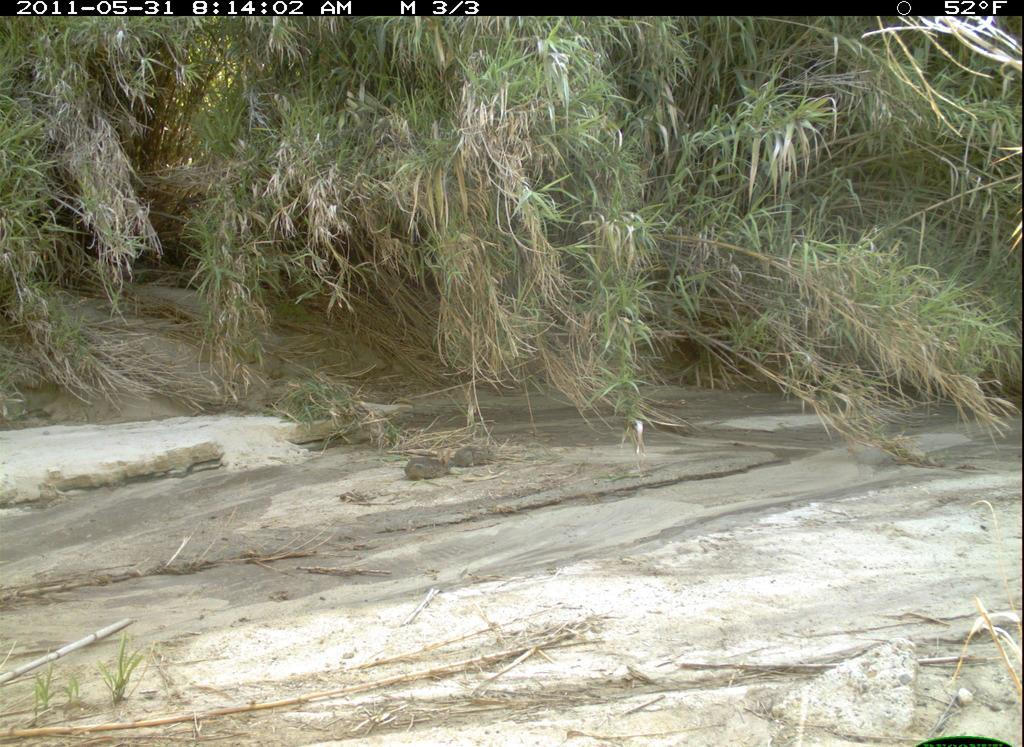rabbit: (403, 448, 454, 483), (452, 443, 497, 469)
